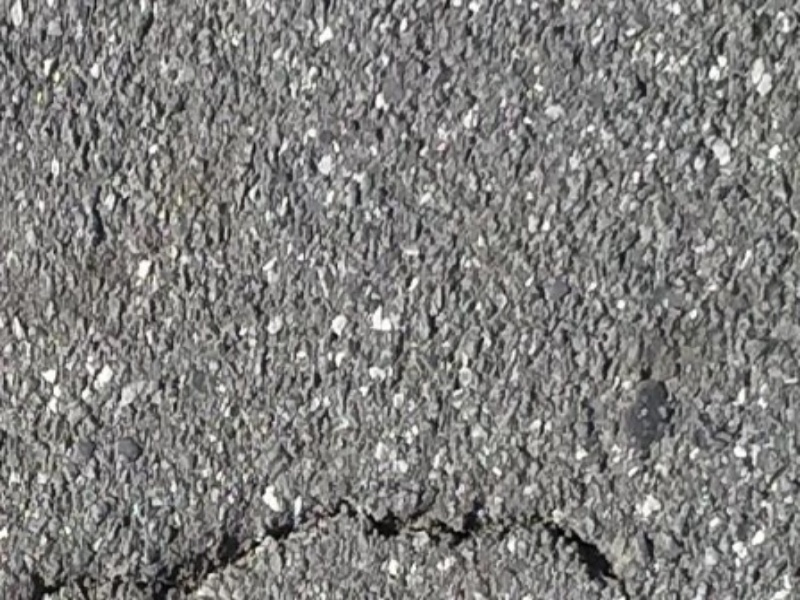crack: (75, 494, 636, 585)
